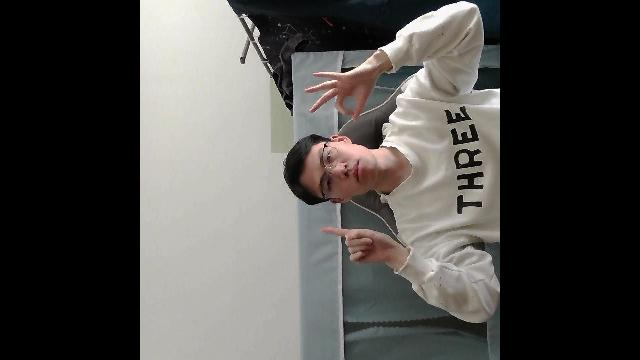ok: (306, 61, 382, 117)
one: (320, 224, 394, 267)
